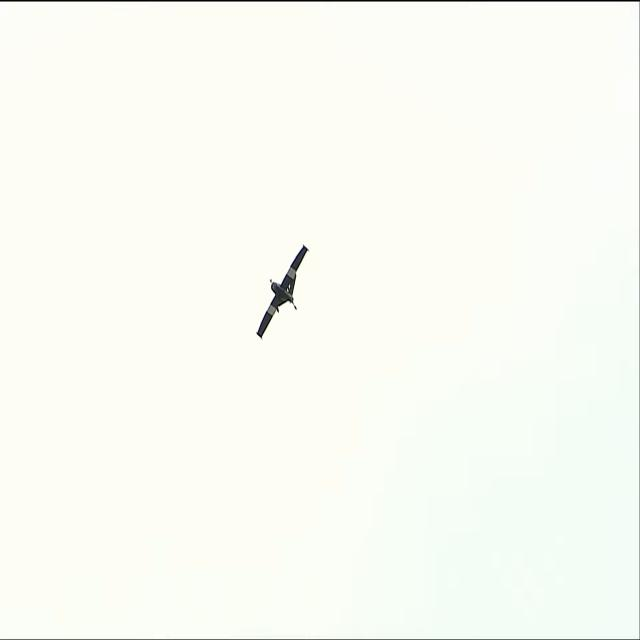iha: (255, 277, 308, 308)
